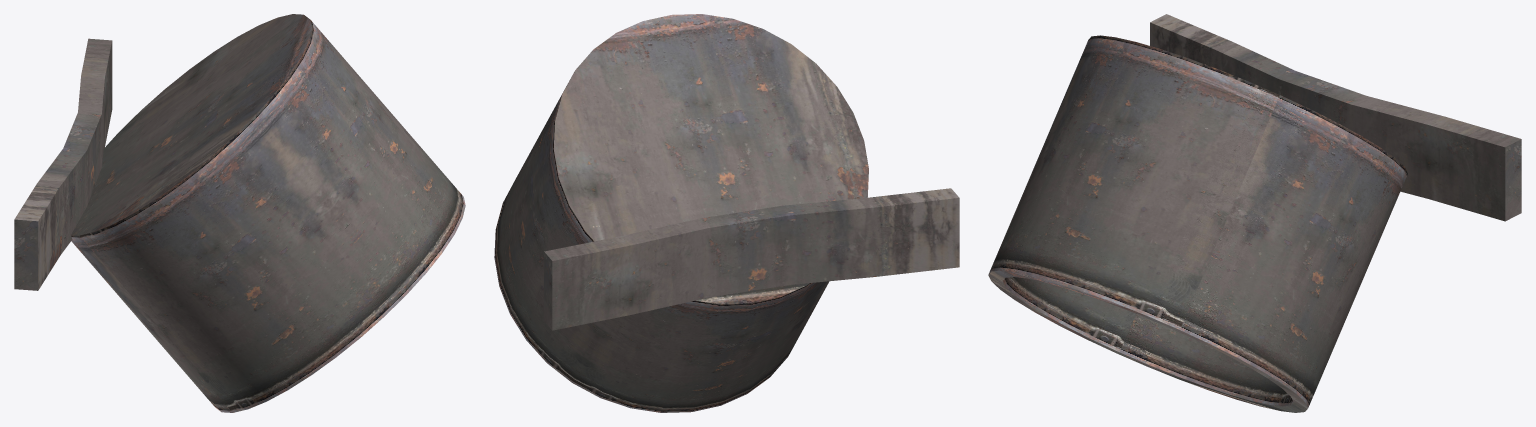
The model's file is spotlight.fbx.
3 renders of one model, left to right at view 1: azimuth 30°, elevation 25°; view 2: azimuth 150°, elevation 25°; view 3: azimuth 270°, elevation 25°, orthographic. The views are drawn at different scales.
Visible parts, largest first — view 1: Spotlight, Spotlight Connector; view 2: Spotlight, Spotlight Connector; view 3: Spotlight, Spotlight Connector.
Boxes of the visible parts, x1,y1,x2,y2 form: Spotlight: [71, 14, 465, 412]; Spotlight Connector: [14, 38, 112, 290]; Spotlight: [494, 14, 868, 412]; Spotlight Connector: [544, 188, 959, 330]; Spotlight: [988, 35, 1407, 412]; Spotlight Connector: [1150, 14, 1521, 221].
Bounding box in the file's own units: 156 × 121 × 154.
